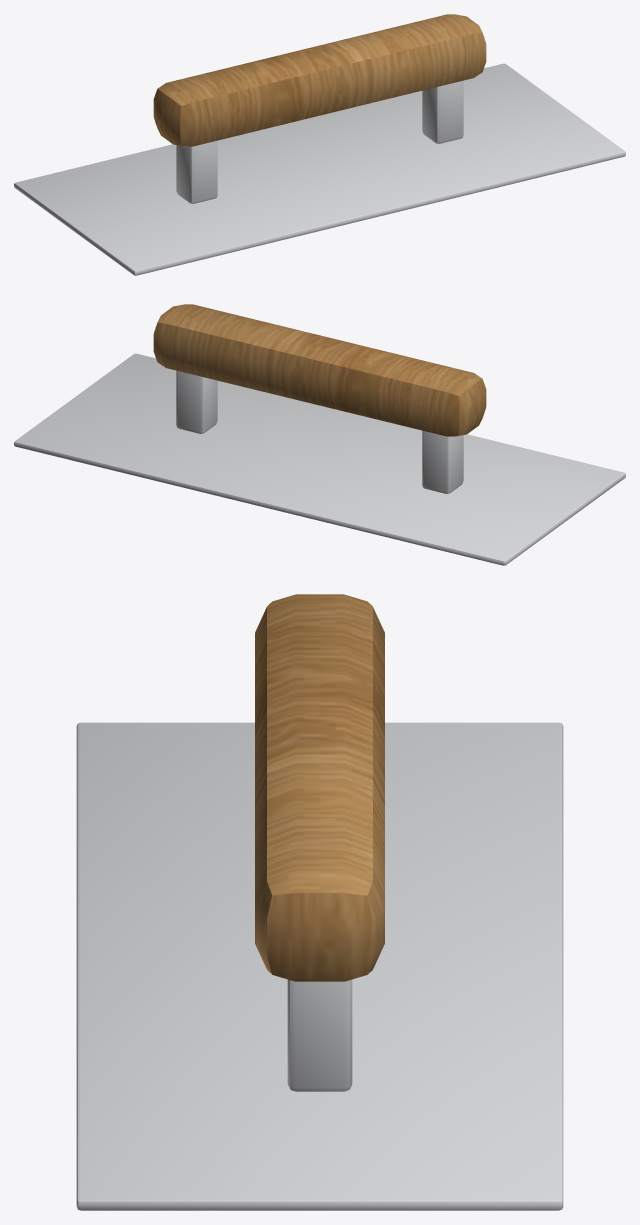
Rendered from PIN-FER-005.glb.
3 renders of one model, top to bottom at view 1: azimuth 30°, elevation 25°; view 2: azimuth 150°, elevation 25°; view 3: azimuth 270°, elevation 25°, orthographic. The views are drawn at different scales.
Parts seen in each view (by area): view 1: PIN-FER-005_chapa, PIN-FER-005_cabo, PIN-FER-005_apoio-1, PIN-FER-005_apoio1; view 2: PIN-FER-005_chapa, PIN-FER-005_cabo, PIN-FER-005_apoio-1, PIN-FER-005_apoio1; view 3: PIN-FER-005_chapa, PIN-FER-005_cabo, PIN-FER-005_apoio1.
Boxes of the visible parts, left/top/right/bottom form: PIN-FER-005_chapa: left=14, top=63, right=625, bottom=275; PIN-FER-005_cabo: left=153, top=14, right=486, bottom=146; PIN-FER-005_apoio-1: left=176, top=140, right=217, bottom=203; PIN-FER-005_apoio1: left=422, top=80, right=463, bottom=143; PIN-FER-005_chapa: left=14, top=353, right=625, bottom=565; PIN-FER-005_cabo: left=153, top=304, right=486, bottom=436; PIN-FER-005_apoio-1: left=422, top=430, right=463, bottom=493; PIN-FER-005_apoio1: left=176, top=370, right=217, bottom=433; PIN-FER-005_chapa: left=76, top=722, right=563, bottom=1210; PIN-FER-005_cabo: left=255, top=594, right=384, bottom=981; PIN-FER-005_apoio1: left=287, top=979, right=352, bottom=1091.
Size of the model in its own units: 0.28 by 0.065 by 0.12.
2 materials, 1 textured.
